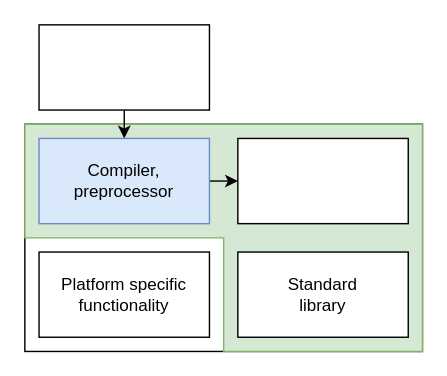
This 447x376 diagram has some shape labels left out. The shapes that lost their labels are listed below. From the top down, each one's centre as x and y in pixels, then its label:
At (123,66): "Source code".
At (322,180): "JavaScript interpreter".
